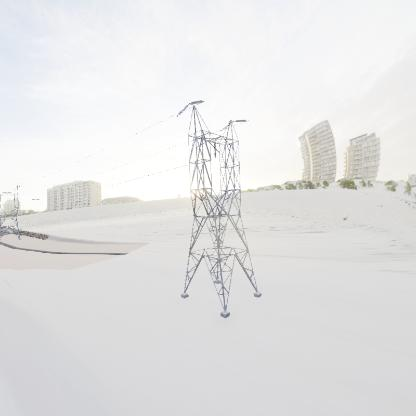tower: (175, 99, 261, 319)
